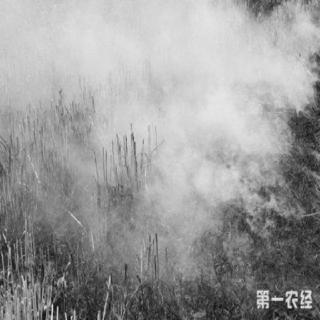Fire: (17, 243, 69, 303), (262, 288, 320, 318), (239, 258, 255, 296), (67, 297, 87, 316), (138, 295, 144, 307)
Smoke: (198, 19, 268, 164), (142, 113, 242, 207), (247, 28, 306, 104), (126, 19, 186, 70)
